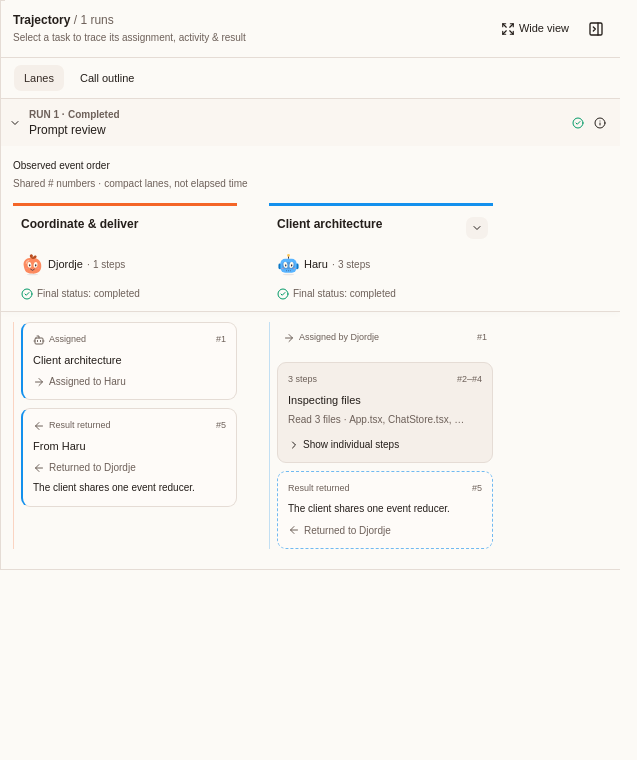
Test case: trajectory run history › provides a names-only nested outline with branch folds and exact historical navigation
The image size is (637, 760).
Click the button "Call outline": (107,78) left=69, top=64, right=145, bottom=92
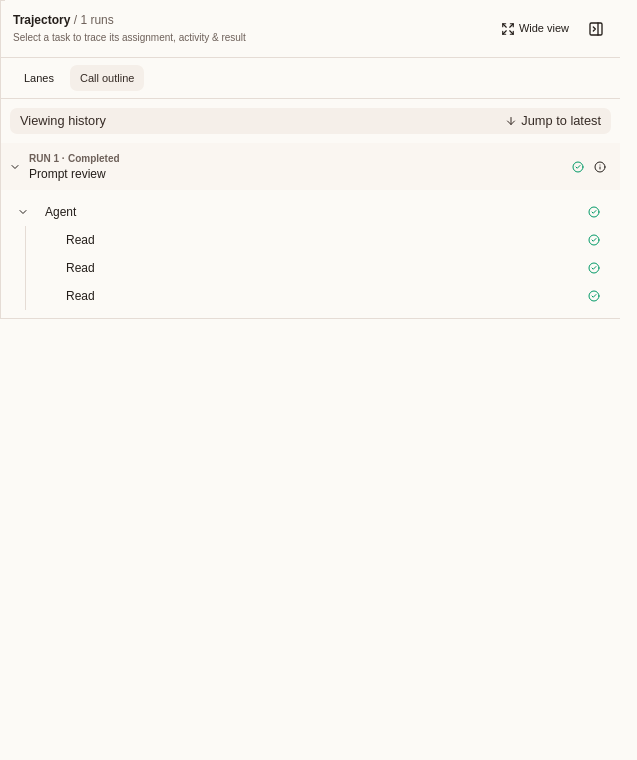
Now the button with aria-label "Open Agent: Client architecture" reads "Agent", box left=37, top=198, right=608, bottom=226
Now the button with aria-label "Open Read: /client/ChatStore.tsx" reads "Read"
Click the button with aria-label "Open Read: /client/ChatStore.tsx": (80,268) left=58, top=254, right=608, bottom=282
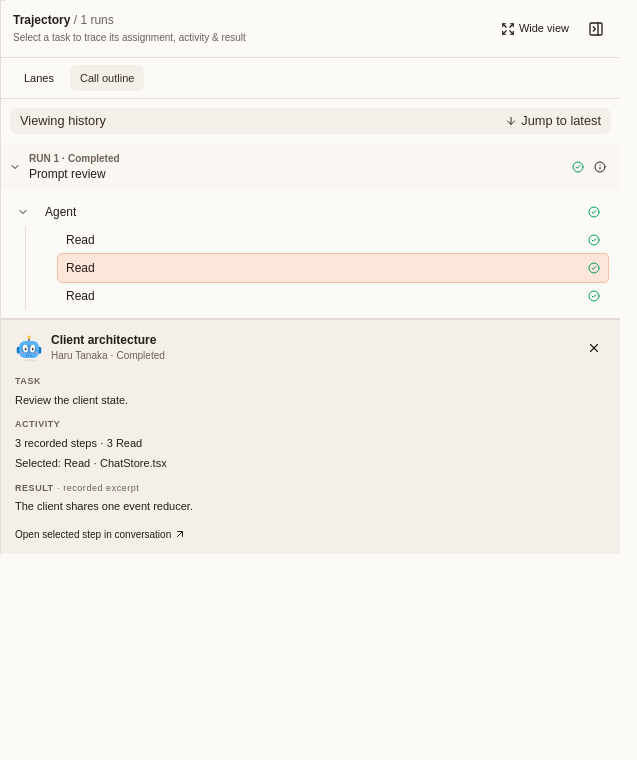
Click the button named "Collapse outline branch: Client architecture": (23,212) left=13, top=202, right=33, bottom=222
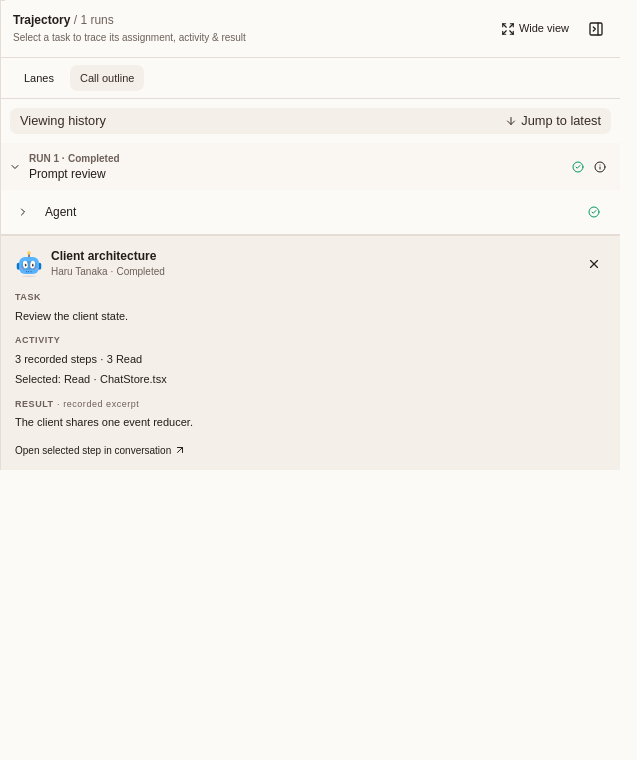
Click the button "Lanes": (39,78) left=13, top=64, right=65, bottom=92
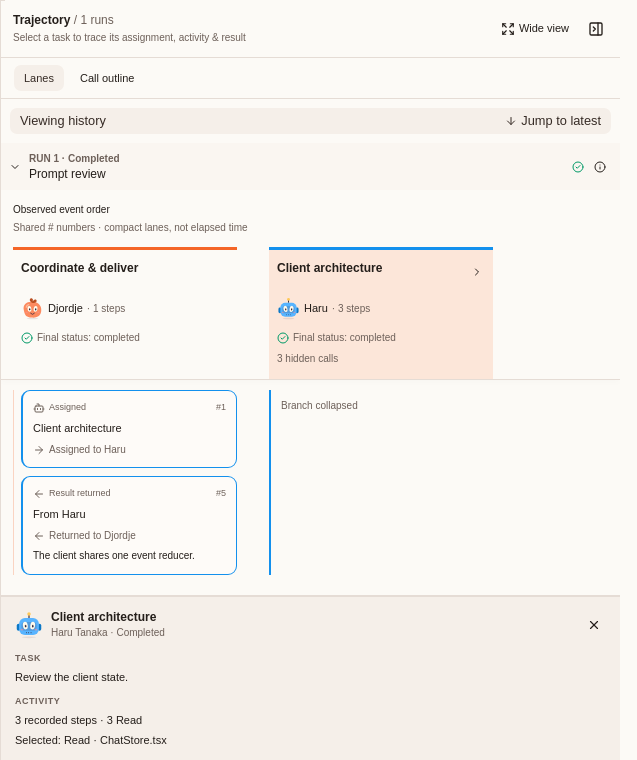
Now the button named "Expand branch: Client architecture" is shown, box left=465, top=260, right=489, bottom=284
